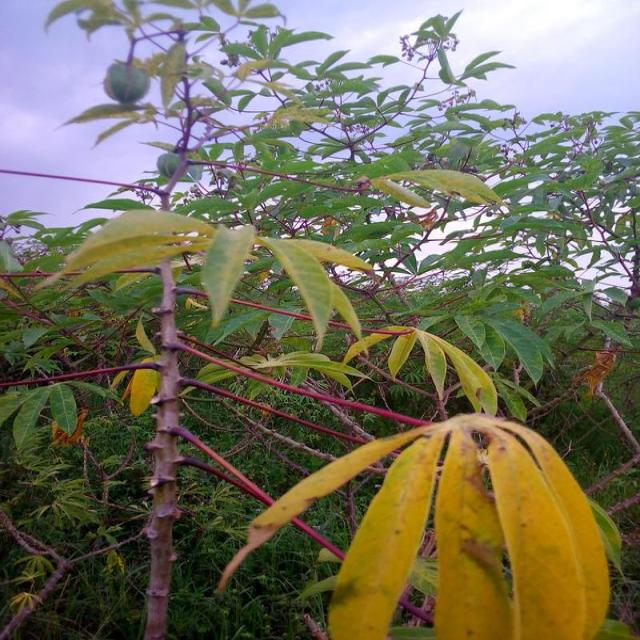cassava leaf: (220, 411, 614, 638), (371, 167, 506, 210), (202, 221, 256, 328)
